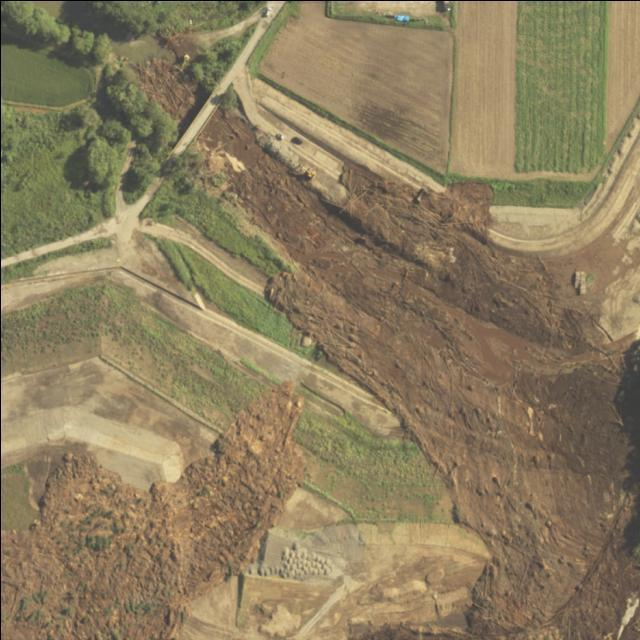landslide: (209, 111, 640, 639), (0, 384, 303, 639)
